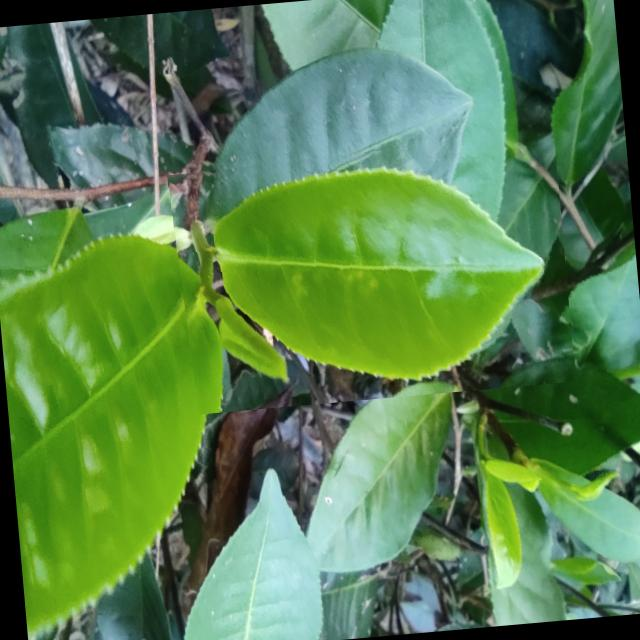Category C(4-7 days): (165, 130, 574, 415)
